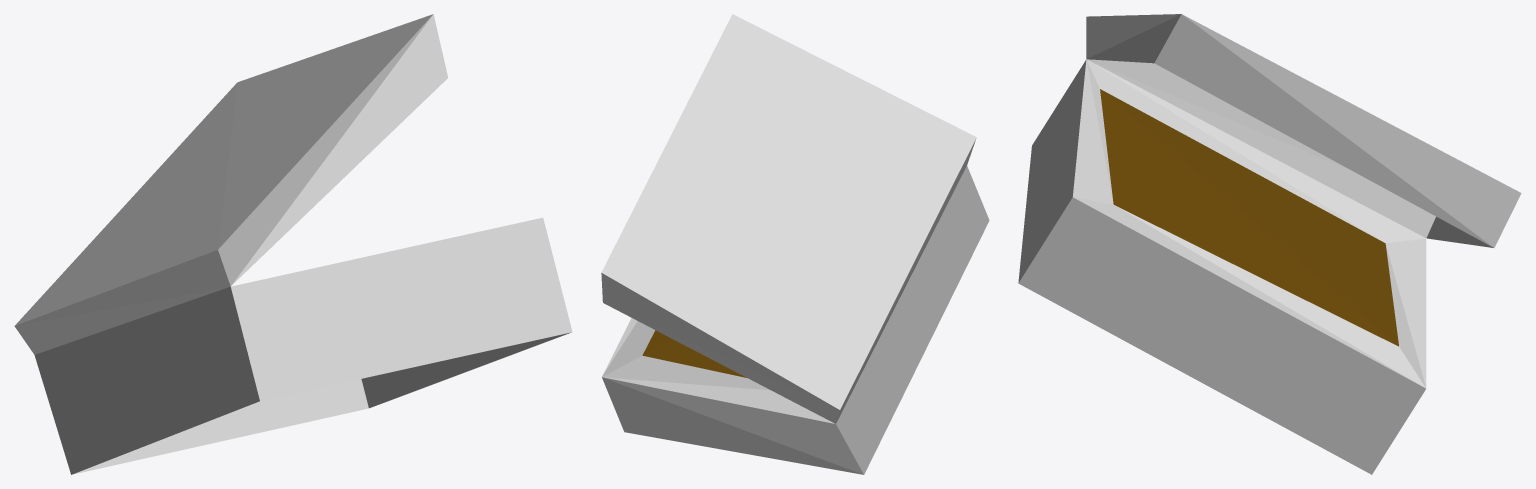
Rendered from itm_model0_tinderbox.obj.
3 renders of one model, left to right at view 1: azimuth 30°, elevation 25°; view 2: azimuth 150°, elevation 25°; view 3: azimuth 270°, elevation 25°, orthographic. The views are drawn at different scales.
Bounding box in the file's own units: 0.2031 × 0.2812 × 0.2891.
